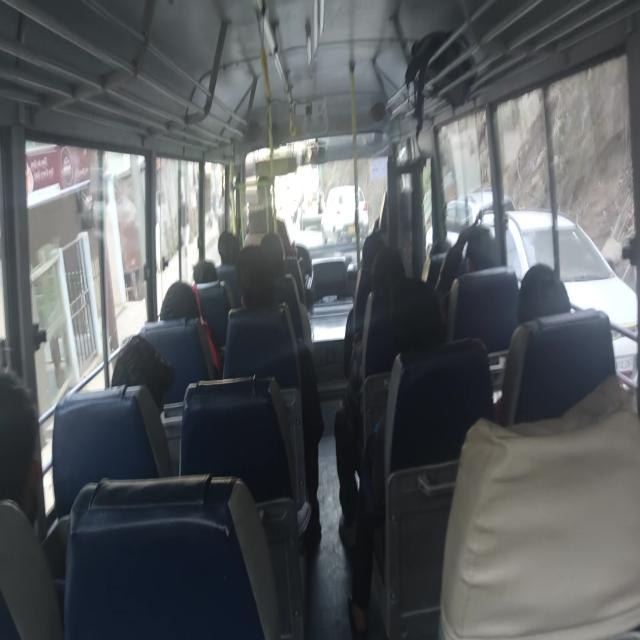person: (2, 362, 50, 532), (386, 266, 441, 368), (112, 326, 174, 408), (518, 261, 568, 338), (459, 221, 509, 275), (235, 242, 275, 304), (161, 271, 202, 323), (372, 247, 406, 296), (258, 227, 288, 271), (212, 224, 240, 270), (361, 230, 390, 271), (192, 256, 218, 293), (382, 170, 416, 198), (249, 174, 280, 202), (431, 236, 456, 263)
